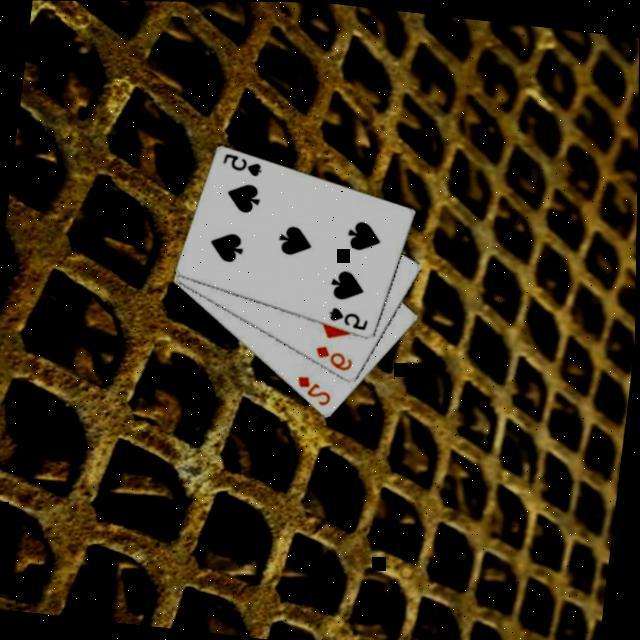2D: (295, 372, 339, 410)
5S: (327, 304, 375, 334), (221, 152, 267, 180)
6D: (312, 343, 360, 375)
